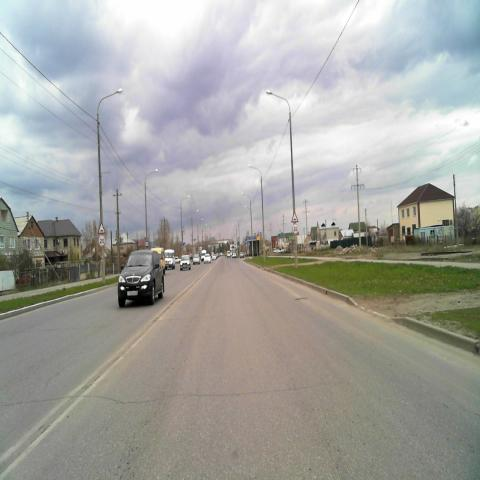1_17: (290, 211, 298, 223), (98, 222, 105, 234)
3_24: (98, 235, 106, 246), (292, 223, 298, 234)
